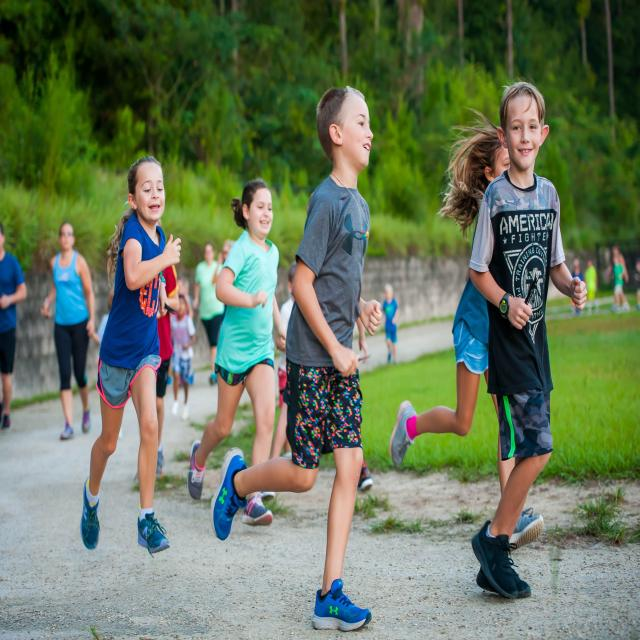Person: (212, 87, 384, 629), (391, 126, 544, 550), (469, 81, 588, 600), (80, 155, 180, 557), (188, 178, 287, 526), (41, 218, 96, 440), (0, 218, 28, 432), (193, 240, 221, 382), (170, 286, 197, 417), (382, 284, 399, 364)
